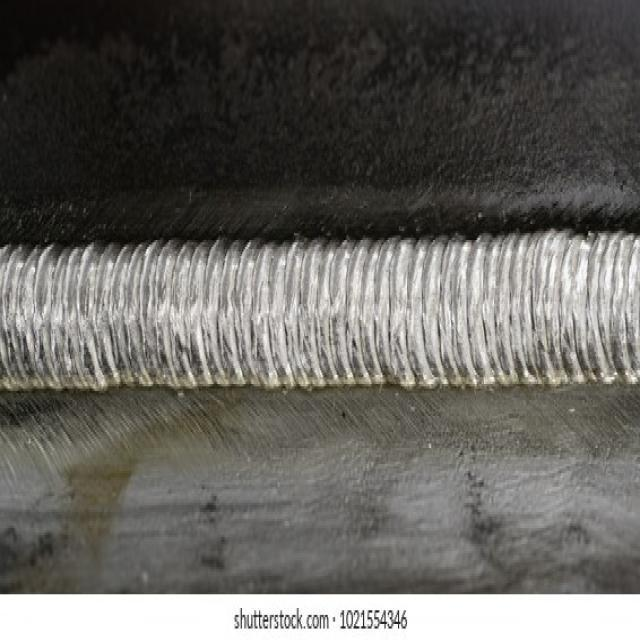Good Welding: (0, 230, 640, 392)
